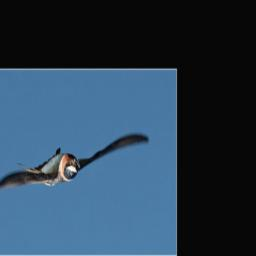Swallow: (0, 135, 150, 199)
